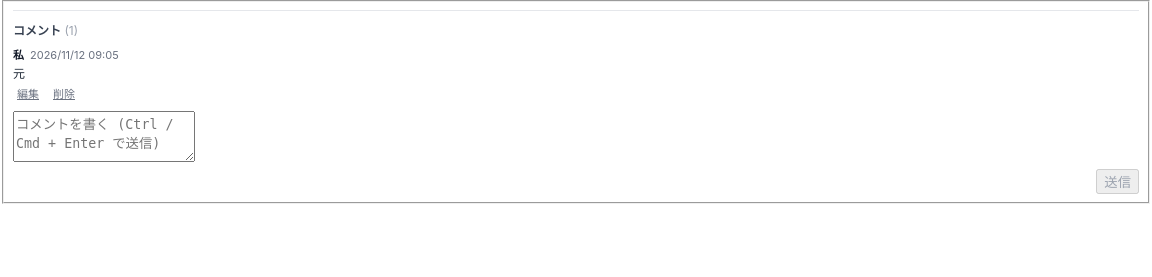
Scenario: CommentsSection › 編集: 保存すると PATCH し、編集済みになる。キャンセルでは送らない
Click the button with test id "comment-edit" at [28, 93], box [13, 85, 43, 101]
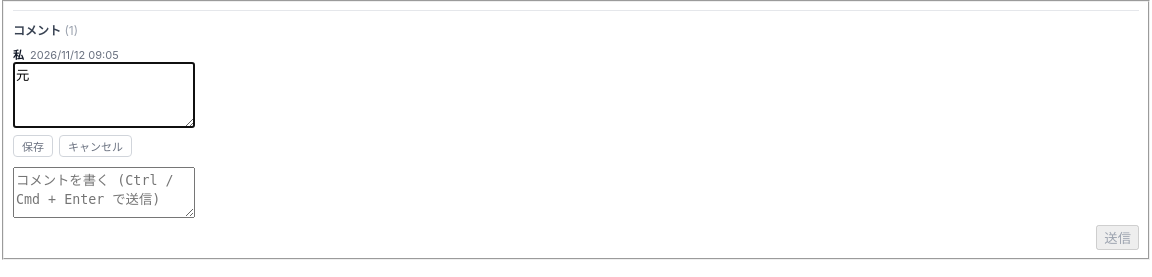
Check: the text box with test id "comment-edit-input" holds "元"
Replace the text in the text box with test id "comment-edit-input" with "直した" at [104, 95], box [13, 62, 195, 128]
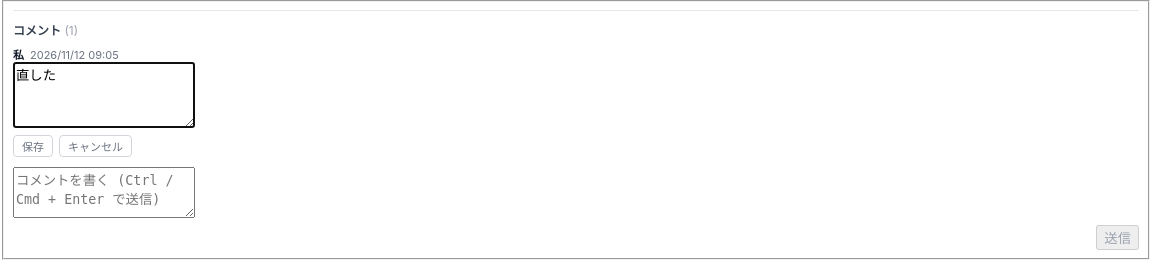
Click the button with test id "comment-edit-save" at [33, 146], box [13, 135, 53, 157]
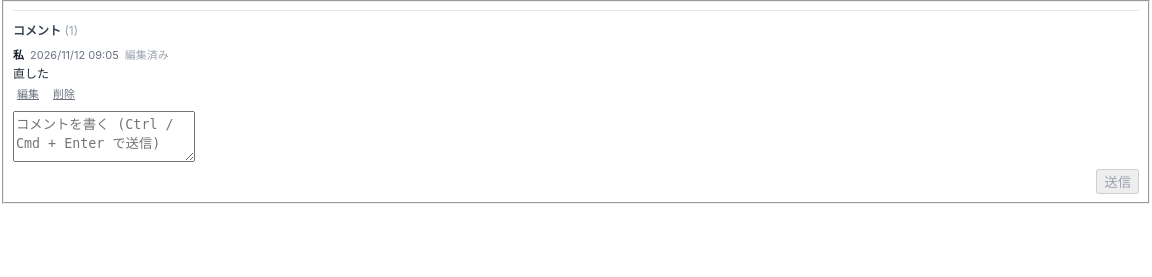
Check: the text with test id "comment-body" reads "直した", box [13, 66, 49, 81]
Check: the text "編集済み" is shown, box [125, 46, 169, 62]
Click the button with test id "comment-edit" at [28, 93], box [13, 85, 43, 101]
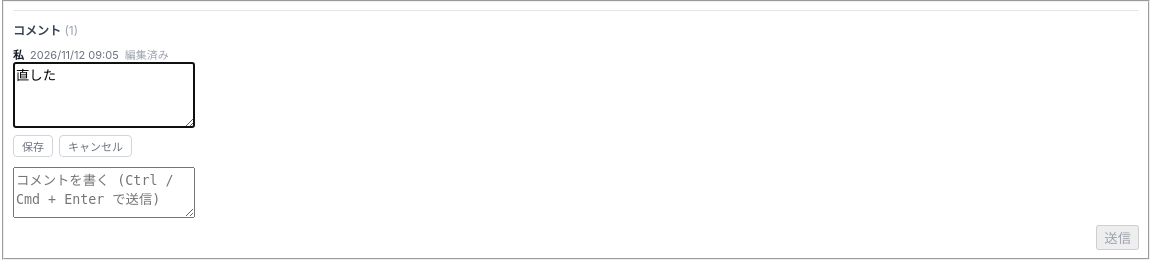
Press Escape in the text box with test id "comment-edit-input", box [13, 62, 195, 128]
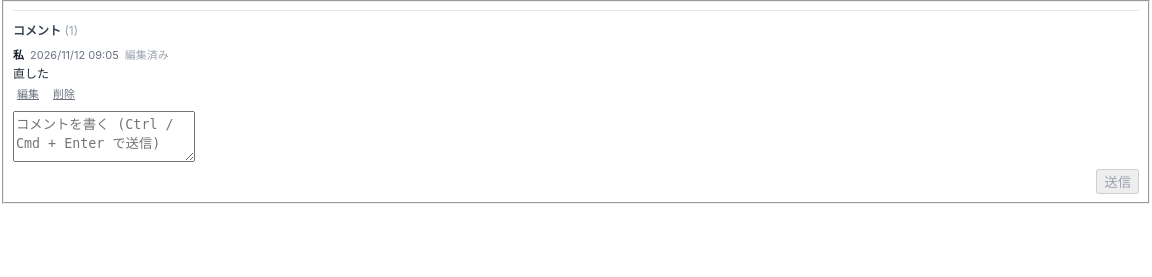
Check: the text box with test id "comment-edit-input" is gone
